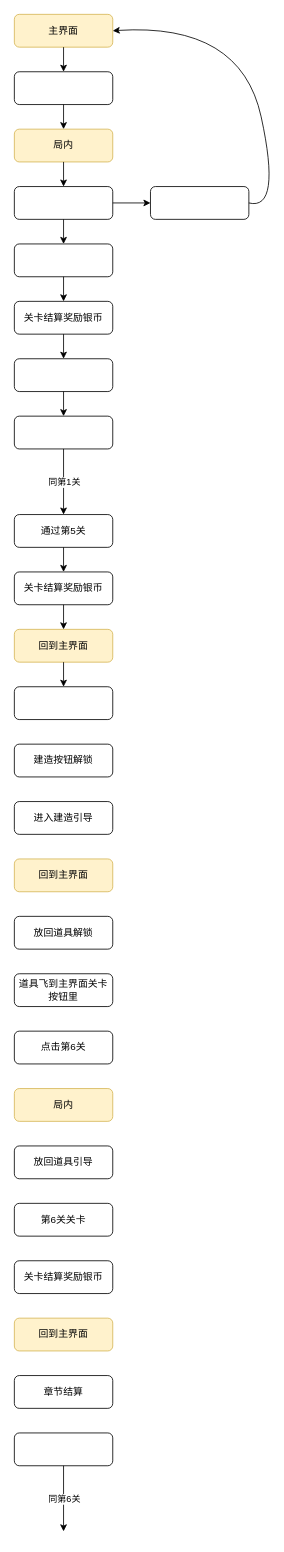
This 284x1552 diagram has some shape labels left out. The centre of each missing label's shape, as x and y in pixels:
中途退出: pixel 199 202
点击关卡结算的第2关: pixel 63 375
点击第1关: pixel 63 88
点击第7关: pixel 63 1449
章节结算进度条拉到5: pixel 63 703
第1关关卡 （有引导文字）: pixel 63 202
第2关关卡 （有引导文字）: pixel 63 432
通过第1关: pixel 63 260
